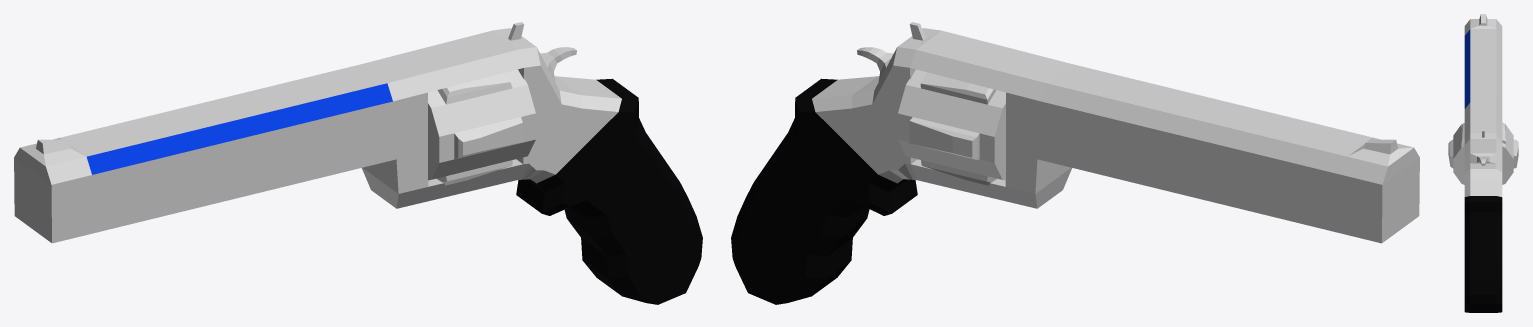
The model's file is Revolver.fbx.
The picture shows the model from 3 angles, left to right: view 1: azimuth 30°, elevation 25°; view 2: azimuth 150°, elevation 25°; view 3: azimuth 270°, elevation 25°; orthographic projection. The views are drawn at different scales.
Parts seen in each view (by area): view 1: Cube.039; view 2: Cube.039; view 3: Cube.039.
Part boxes in pixels (x1,y1,x2,y2): Cube.039: (14,22,702,304); Cube.039: (731,22,1419,304); Cube.039: (1448,14,1518,312).
Bounding box in the file's own units: 701 × 304 × 130.
